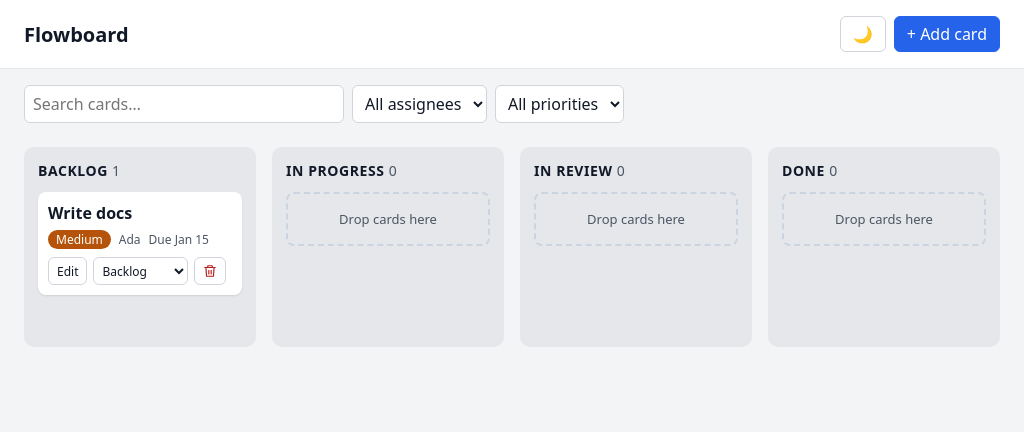
moving cards › on failure shows the error and reloads from the server
Expected: the element "Backlog" is shown, [24,147,256,347]
Select "Done" in the dropdown named "Move Write docs" at (141, 271), box [94,257,188,285]
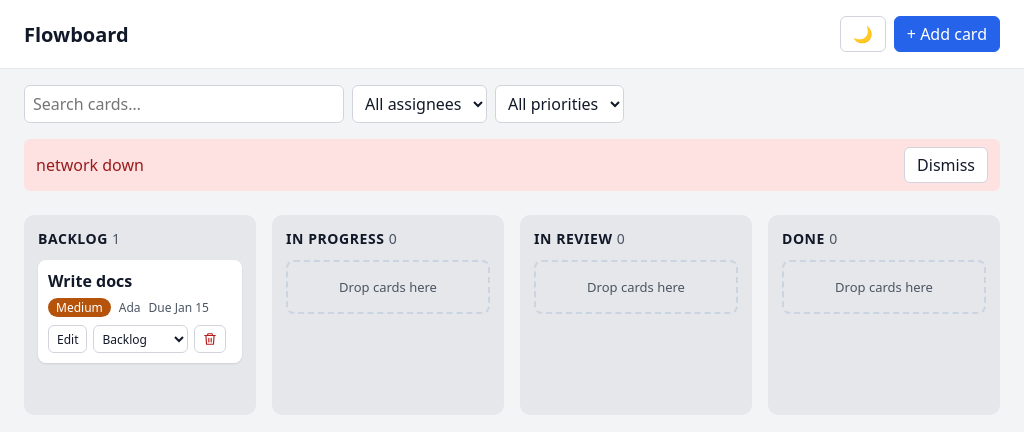
Expected: the message shows "network down", [36,154,144,176]
